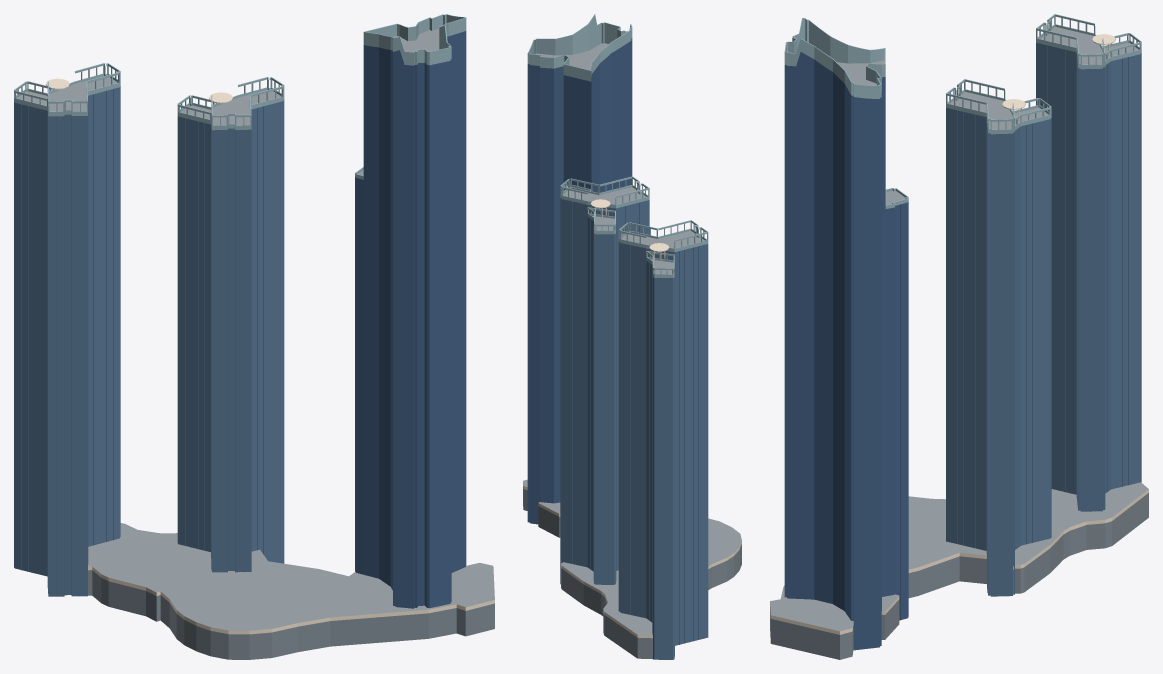
The model's file is busan-lct-landmark-tower.glb.
3 views of the same model, side by side, from view 1: azimuth 30°, elevation 25°; view 2: azimuth 150°, elevation 25°; view 3: azimuth 270°, elevation 25° (orthographic). The views are drawn at different scales.
Parts seen in each view (by area): view 1: Haeundae LCT The Sharp; view 2: Haeundae LCT The Sharp; view 3: Haeundae LCT The Sharp.
Part boxes in pixels (left/top/right/bottom): Haeundae LCT The Sharp: left=14, top=14, right=494, bottom=659; Haeundae LCT The Sharp: left=523, top=14, right=741, bottom=659; Haeundae LCT The Sharp: left=770, top=14, right=1148, bottom=659.
Size of the model in its own units: 241 by 411 by 240.
